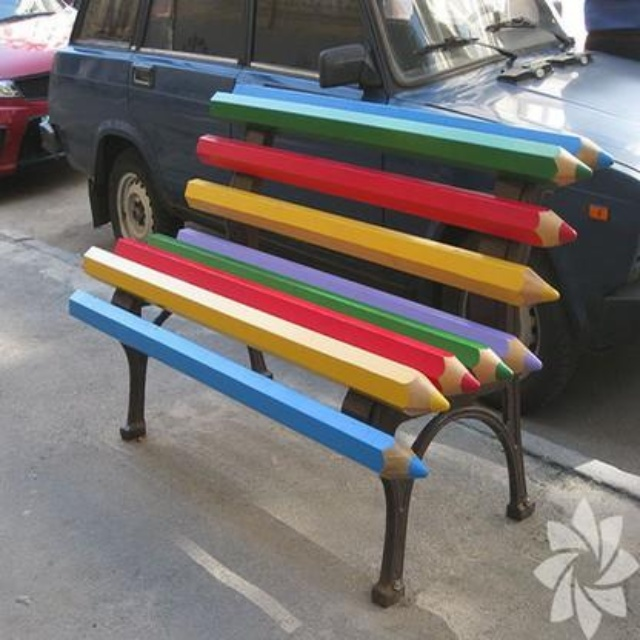obstacle: (45, 57, 606, 618)
